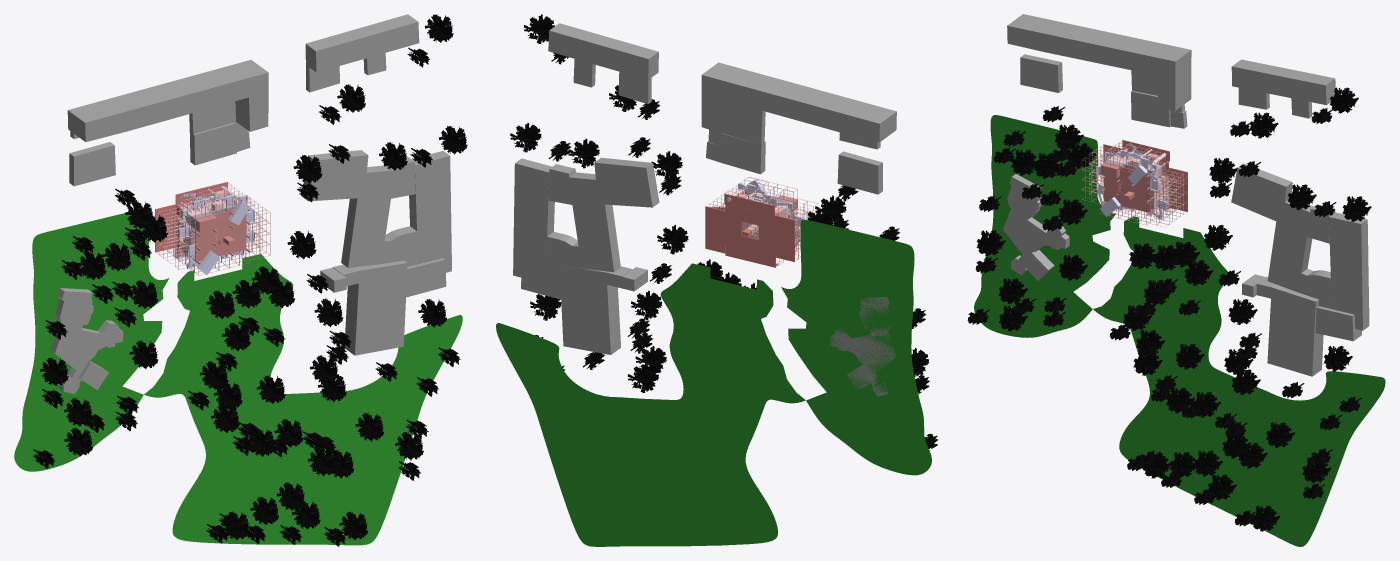
3 renders of one model, left to right at view 1: azimuth 30°, elevation 25°; view 2: azimuth 150°, elevation 25°; view 3: azimuth 330°, elevation 25°, orthographic. The views are drawn at different scales.
Visible parts, largest first — view 1: green area, buildings, Trees, floor 5, Floor G, stairs (×2), floor 3, floor 4, floor 2, floor 1; view 2: green area, buildings, Trees, Floor G; view 3: green area, buildings, Trees, floor 5, Floor G, floor 3, floor 1, floor 4, floor 2, stairs.
Boxes of the visible parts, x1=… form: green area: x1=14, y1=212, x2=462, y2=545; buildings: x1=50, y1=14, x2=451, y2=393; Trees: x1=33, y1=14, x2=467, y2=546; floor 5: x1=175, y1=196, x2=270, y2=275; Floor G: x1=155, y1=182, x2=254, y2=260; stairs (×2): x1=179, y1=194, x2=255, y2=274; floor 3: x1=167, y1=186, x2=262, y2=269; floor 4: x1=190, y1=194, x2=265, y2=272; floor 2: x1=163, y1=188, x2=258, y2=266; floor 1: x1=159, y1=185, x2=254, y2=263; green area: x1=496, y1=219, x2=931, y2=546; buildings: x1=513, y1=23, x2=896, y2=396; Trees: x1=510, y1=14, x2=938, y2=450; Floor G: x1=705, y1=191, x2=798, y2=267; green area: x1=974, y1=115, x2=1385, y2=546; buildings: x1=1003, y1=14, x2=1369, y2=376; Trees: x1=967, y1=87, x2=1371, y2=531; floor 5: x1=1081, y1=153, x2=1169, y2=227; Floor G: x1=1100, y1=140, x2=1187, y2=213; floor 3: x1=1089, y1=148, x2=1176, y2=221; floor 1: x1=1096, y1=142, x2=1183, y2=216; floor 4: x1=1104, y1=150, x2=1172, y2=224; floor 2: x1=1092, y1=145, x2=1180, y2=219; stairs: x1=1096, y1=155, x2=1167, y2=211.
Size of the model in its own units: 222 by 248 by 22.69.
